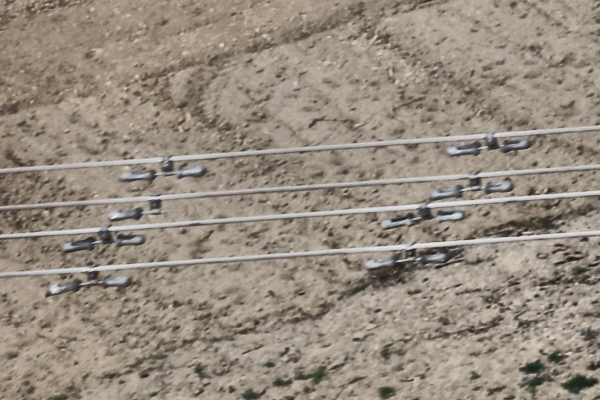damper: (42, 263, 136, 299), (117, 152, 209, 184), (424, 169, 516, 200), (376, 201, 467, 232), (363, 240, 450, 271), (444, 130, 532, 160), (59, 224, 147, 254)
damper_defect: (104, 190, 171, 224)
